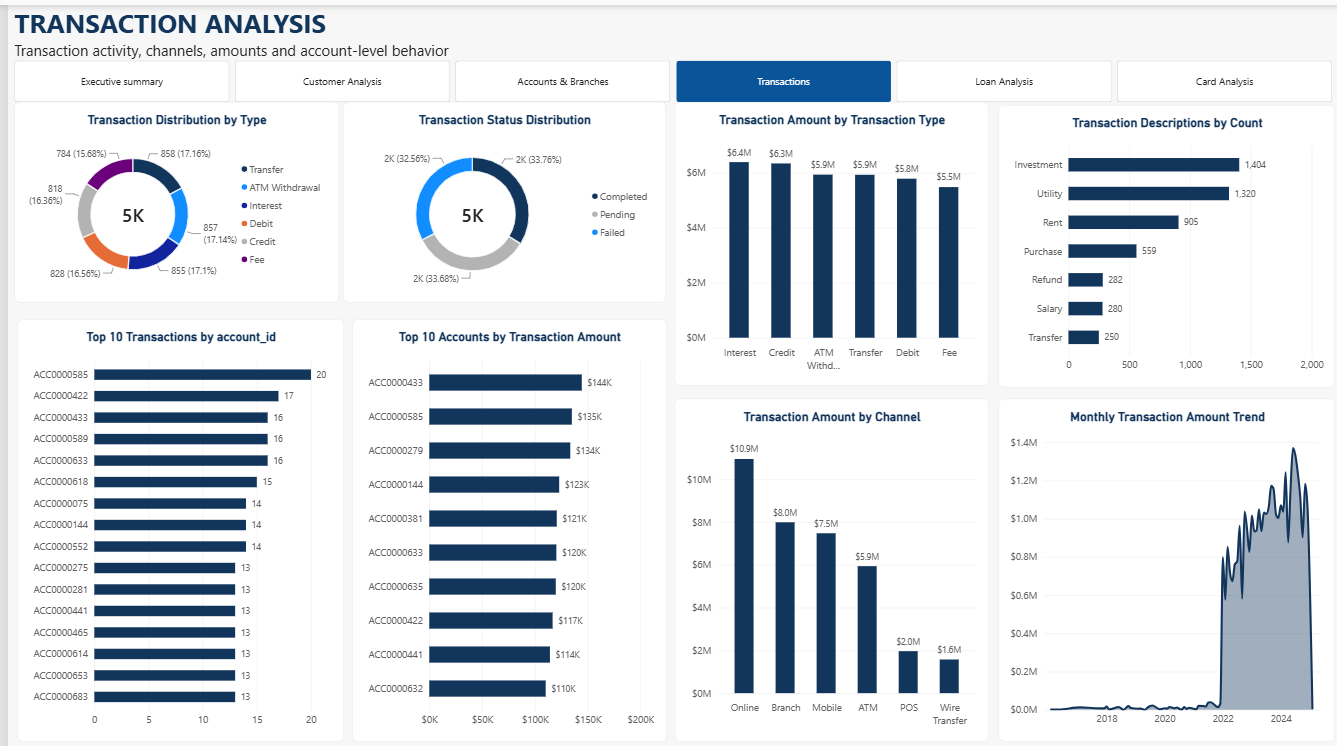

What the dashboard file says about the page in this screenshot:
{"tool":"powerbi","page":{"name":"Transactions","canvas":[1920,1080],"ordinal":3},"visuals":[{"type":"donutChart","title":"Transaction Distribution by Type","fields":{"Category":["transactions.transaction_type"],"Y":["transactions.Total Transactions"]},"box":[10.2,140.3,466.8,288.2],"z":0},{"type":"clusteredColumnChart","title":"Transaction Amount by Channel","fields":{"Category":["transactions.channel"],"Y":["transactions.Total Transaction Amount"]},"box":[959.1,566.3,451.5,492.3],"z":1000},{"type":"lineChart","title":"Monthly Transaction Amount Trend","fields":{"Category":["date_table.YearMonth"],"Y":["transactions.Total Transaction Amount"]},"box":[1423.4,566.3,484.7,492.3],"z":2000},{"type":"clusteredBarChart","title":"Top 10 Accounts by Transaction Amount","fields":{"Category":["transactions.account_id"],"Y":["transactions.Total Transaction Amount"]},"box":[494.9,451.5,451.5,607.1],"z":3000},{"type":"donutChart","title":"Transaction Status Distribution","fields":{"Category":["transactions.status"],"Y":["transactions.Total Transactions"]},"box":[482.1,140.3,464.3,288.2],"z":4000},{"type":"clusteredBarChart","title":"Transaction Descriptions by Count","fields":{"Category":["transactions.description"],"Y":["transactions.Total Transactions"]},"box":[1423.4,142.8,484.7,405.6],"z":5000},{"type":"clusteredColumnChart","title":"Transaction Amount by Transaction Type","fields":{"Category":["transactions.transaction_type"],"Y":["transactions.Total Transaction Amount"]},"box":[959.1,140.3,451.5,408.1],"z":6000},{"type":"clusteredBarChart","title":"Top 10 Transactions by account_id","fields":{"Category":["transactions.account_id"],"Y":["transactions.Total Transactions"]},"box":[12.8,451.5,469.4,607.1],"z":7000},{"type":"textbox","box":[10.2,0,650.5,155.6],"z":8000},{"type":"pageNavigator","box":[10.2,79.1,1897.8,60],"z":9000}]}

Visuals, with their boxes in screenshot pixels (x1, y1, x2, y2), scaled from the page's 1920x1080 canvas onto the 1337x746 screenshot:
"Transaction Distribution by Type" donutChart: x1=7, y1=97, x2=332, y2=296
"Transaction Amount by Channel" clusteredColumnChart: x1=668, y1=391, x2=982, y2=731
"Monthly Transaction Amount Trend" lineChart: x1=991, y1=391, x2=1329, y2=731
"Top 10 Accounts by Transaction Amount" clusteredBarChart: x1=345, y1=312, x2=659, y2=731
"Transaction Status Distribution" donutChart: x1=336, y1=97, x2=659, y2=296
"Transaction Descriptions by Count" clusteredBarChart: x1=991, y1=99, x2=1329, y2=379
"Transaction Amount by Transaction Type" clusteredColumnChart: x1=668, y1=97, x2=982, y2=379
"Top 10 Transactions by account_id" clusteredBarChart: x1=9, y1=312, x2=336, y2=731
textbox: x1=7, y1=0, x2=460, y2=107
pageNavigator: x1=7, y1=55, x2=1329, y2=96
